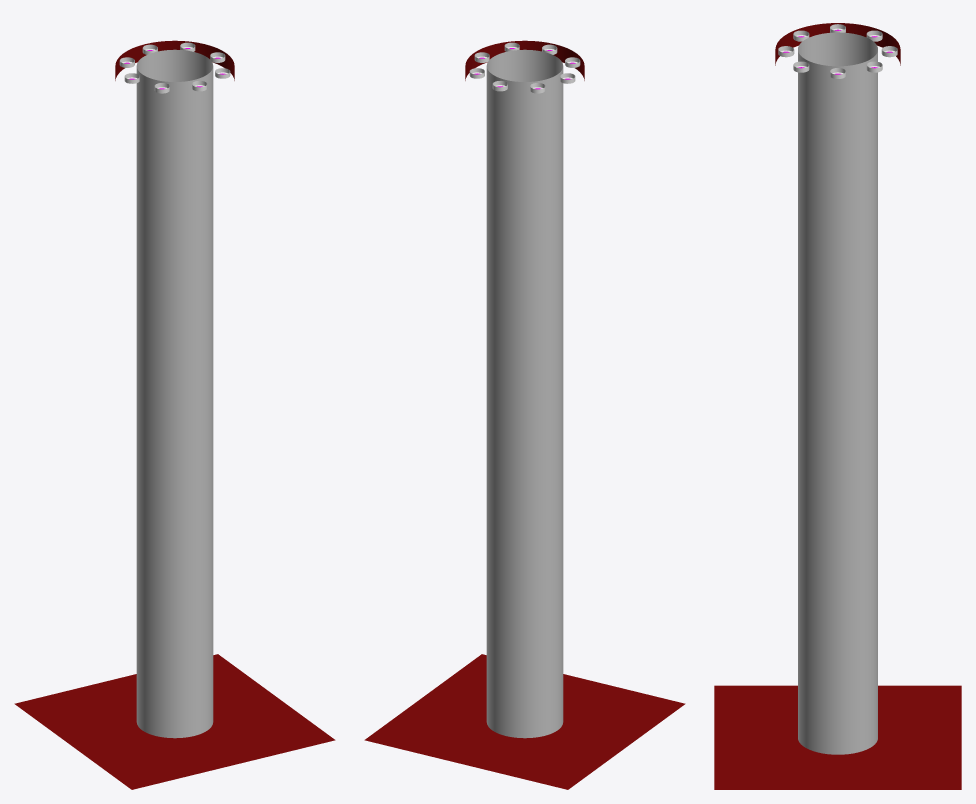
Rendered from column_1.fbx.
3 views of the same model, side by side, from view 1: azimuth 30°, elevation 25°; view 2: azimuth 150°, elevation 25°; view 3: azimuth 270°, elevation 25° (orthographic). The views are drawn at different scales.
Parts seen in each view (by area): view 1: column1; view 2: column1; view 3: column1.
Boxes of the visible parts, <box> form: column1: <box>14,40,335,789</box>; column1: <box>364,40,685,789</box>; column1: <box>714,23,961,789</box>.
Size of the model in its own units: 4 by 12.3 by 4.
